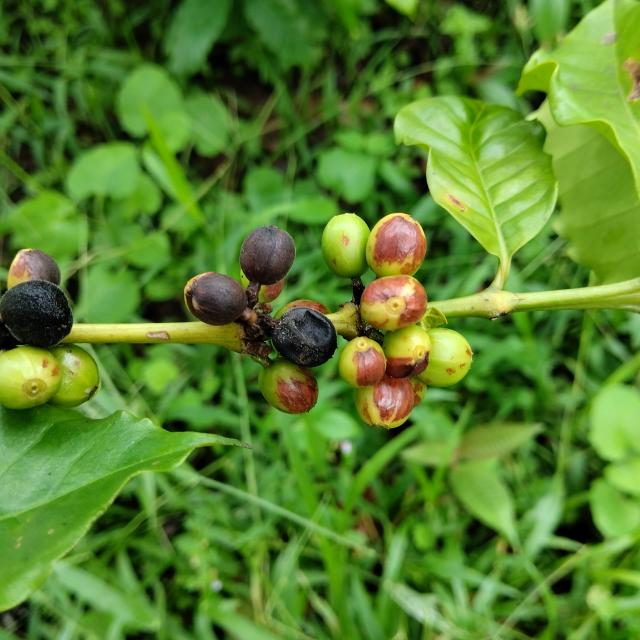green: (0, 346, 61, 410), (48, 344, 100, 408), (418, 328, 473, 388), (322, 213, 371, 278)
red: (0, 280, 72, 348), (271, 308, 337, 368), (366, 213, 427, 277), (360, 275, 428, 331), (184, 272, 247, 326), (258, 358, 318, 414), (240, 225, 295, 286), (355, 374, 415, 429), (382, 325, 431, 379), (339, 336, 387, 388), (6, 248, 60, 289)
